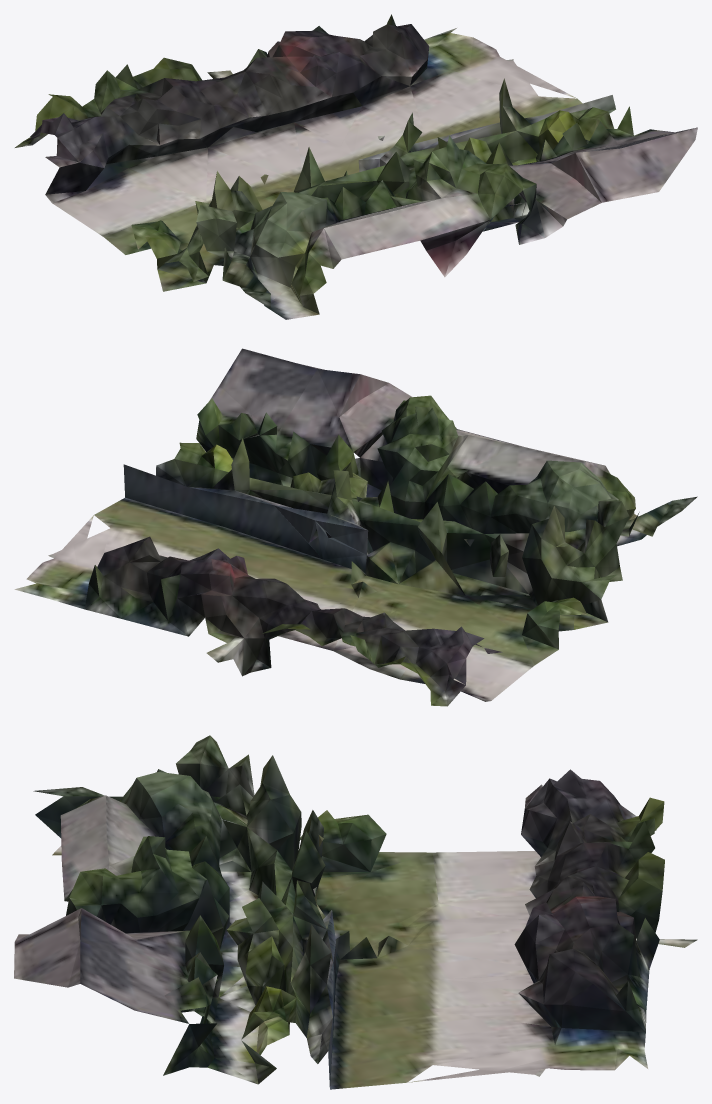
Rendered from Tile_+002_+007_L17_00.glb.
3 views of the same model, one above another, from view 1: azimuth 30°, elevation 25°; view 2: azimuth 150°, elevation 25°; view 3: azimuth 270°, elevation 25° (orthographic). The views are drawn at different scales.
Size of the model in its own units: 58.14 by 15.22 by 60.05.
1 material, 1 textured.
